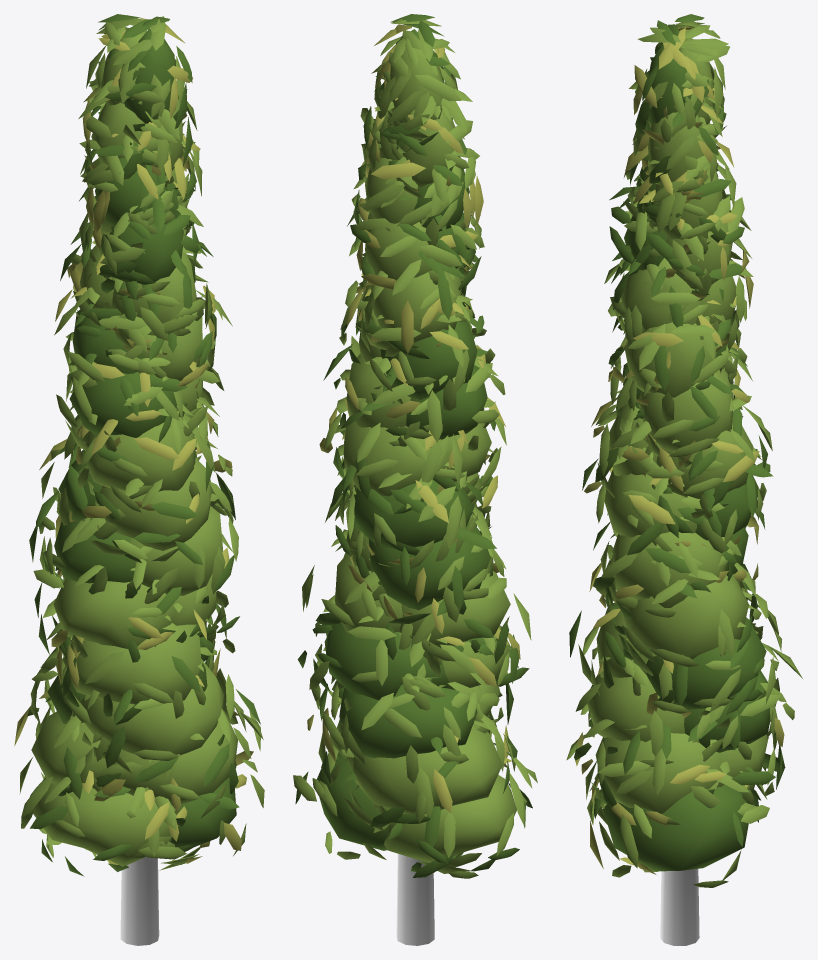
The model's file is Cypress.glb.
3 renders of one model, left to right at view 1: azimuth 30°, elevation 25°; view 2: azimuth 150°, elevation 25°; view 3: azimuth 270°, elevation 25°, orthographic.
Visible parts, largest first — view 1: RK_Cypress_RK_Leaf, RK_Cypress_RK_LeafDark, RK_Cypress_RK_LeafGold, RK_Cypress_RK_Bark; view 2: RK_Cypress_RK_Leaf, RK_Cypress_RK_LeafDark, RK_Cypress_RK_LeafGold, RK_Cypress_RK_Bark; view 3: RK_Cypress_RK_Leaf, RK_Cypress_RK_LeafDark, RK_Cypress_RK_LeafGold, RK_Cypress_RK_Bark.
Part boxes in pixels (bbox=[...]): RK_Cypress_RK_Leaf: bbox=[19, 15, 264, 870]; RK_Cypress_RK_LeafDark: bbox=[27, 14, 260, 876]; RK_Cypress_RK_LeafGold: bbox=[14, 17, 253, 864]; RK_Cypress_RK_Bark: bbox=[120, 856, 159, 945]; RK_Cypress_RK_Leaf: bbox=[293, 19, 537, 878]; RK_Cypress_RK_LeafDark: bbox=[295, 14, 532, 877]; RK_Cypress_RK_LeafGold: bbox=[307, 24, 520, 813]; RK_Cypress_RK_Bark: bbox=[396, 853, 434, 945]; RK_Cypress_RK_Leaf: bbox=[566, 21, 802, 887]; RK_Cypress_RK_LeafDark: bbox=[569, 14, 785, 871]; RK_Cypress_RK_LeafGold: bbox=[575, 26, 784, 874]; RK_Cypress_RK_Bark: bbox=[660, 868, 699, 945].
Size of the model in its own units: 1.65 by 6.69 by 1.57.
